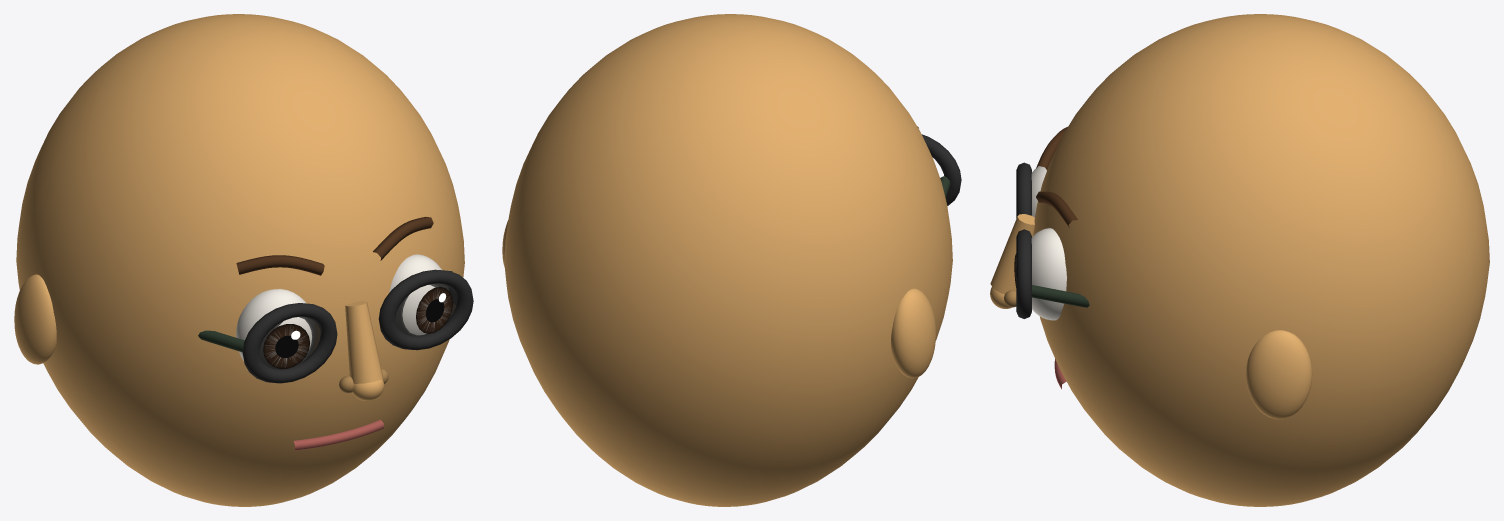
The model's file is 05-tactiques.glb.
3 views of the same model, side by side, from view 1: azimuth 30°, elevation 25°; view 2: azimuth 150°, elevation 25°; view 3: azimuth 270°, elevation 25° (orthographic).
Size of the model in its own units: 0.3087 by 0.321 by 0.3166.
12 materials, 1 textured.
